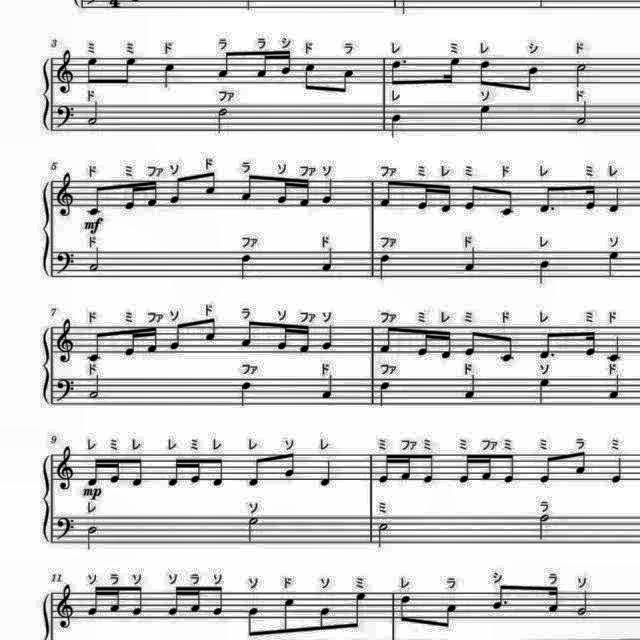Bass-clef: (54, 249, 78, 279), (55, 375, 79, 405), (54, 514, 78, 542), (55, 102, 79, 130)
Eighth-note: (346, 590, 369, 634), (84, 327, 108, 365), (278, 596, 298, 636), (520, 62, 542, 96), (298, 60, 318, 96), (246, 454, 266, 490), (538, 328, 558, 364), (85, 182, 106, 216), (213, 49, 234, 82), (118, 55, 138, 89), (242, 606, 262, 640), (538, 455, 558, 489), (538, 183, 558, 217), (490, 583, 512, 613), (164, 582, 182, 618), (130, 584, 148, 620), (210, 456, 228, 492), (476, 56, 496, 88), (338, 66, 358, 98), (464, 182, 484, 214), (498, 188, 518, 220), (498, 334, 518, 366), (236, 174, 256, 206), (168, 319, 186, 353), (421, 449, 439, 483), (130, 454, 148, 488), (500, 451, 518, 485), (440, 602, 460, 632), (388, 58, 408, 88), (237, 321, 256, 352), (169, 174, 187, 206), (463, 328, 481, 360), (377, 325, 395, 357), (376, 180, 394, 212), (315, 604, 333, 634), (201, 317, 219, 347), (396, 592, 412, 624), (211, 584, 227, 616), (86, 54, 102, 86), (282, 450, 298, 480), (202, 170, 218, 198), (572, 449, 588, 477)
Half-note: (212, 104, 232, 136), (244, 514, 262, 546), (87, 372, 105, 402), (534, 512, 552, 542), (375, 521, 393, 551), (86, 98, 104, 126), (85, 248, 103, 276), (571, 60, 589, 88), (376, 379, 394, 407), (376, 254, 394, 282), (86, 522, 102, 552), (574, 588, 590, 616), (574, 98, 590, 126)
Quarter-note: (606, 333, 626, 363), (460, 372, 480, 400), (460, 246, 480, 274), (318, 247, 338, 275), (318, 372, 338, 400), (317, 458, 335, 489), (535, 377, 553, 407), (477, 102, 495, 132), (161, 60, 179, 90), (604, 249, 622, 279), (237, 379, 255, 409), (607, 185, 625, 215), (608, 454, 624, 486), (319, 324, 336, 354), (238, 251, 255, 281), (605, 372, 623, 400), (536, 256, 552, 286), (319, 176, 336, 204), (388, 112, 404, 140)
Sixteenth-note: (441, 56, 464, 88), (164, 456, 182, 492), (85, 584, 103, 620), (254, 50, 274, 82), (376, 452, 394, 486), (439, 182, 456, 218), (123, 180, 141, 212), (122, 326, 140, 358), (456, 452, 474, 484), (85, 457, 104, 487), (439, 326, 456, 359), (582, 327, 600, 358), (144, 324, 160, 358), (296, 176, 312, 208), (189, 456, 205, 488), (416, 328, 432, 360), (296, 325, 312, 357), (109, 582, 125, 614), (416, 182, 432, 214), (544, 584, 560, 616), (107, 455, 123, 485), (188, 584, 204, 614), (276, 325, 292, 355), (584, 181, 600, 211), (400, 455, 416, 485), (146, 181, 162, 211), (278, 50, 294, 78), (276, 180, 292, 208), (480, 456, 496, 484)
Treble-clef: (56, 317, 80, 367), (56, 169, 80, 219), (56, 443, 80, 493), (56, 48, 80, 96), (56, 581, 78, 631)
